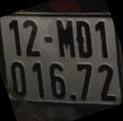-: (44, 35, 53, 44)
.: (70, 94, 78, 101)
0: (10, 62, 27, 97)
1: (31, 62, 47, 99), (9, 20, 24, 58), (96, 19, 110, 58)
2: (96, 63, 117, 103), (24, 18, 42, 57)
6: (49, 62, 66, 99)
7: (77, 63, 94, 101)
D: (77, 19, 93, 58)
M: (55, 19, 76, 59)
